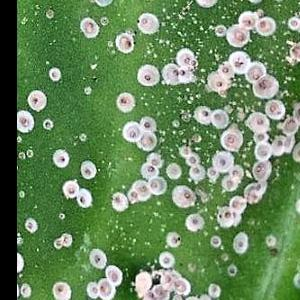Femea: (26, 89, 46, 109), (206, 72, 225, 91), (114, 94, 134, 112), (136, 69, 156, 87), (228, 54, 247, 72), (163, 61, 177, 84), (255, 77, 271, 96), (174, 49, 193, 64), (248, 61, 261, 80), (124, 124, 139, 140), (267, 101, 282, 117), (217, 63, 232, 78), (213, 152, 227, 168), (212, 107, 225, 124), (253, 162, 268, 176), (272, 134, 282, 154), (223, 135, 237, 148), (197, 108, 209, 122), (250, 117, 265, 128), (176, 69, 192, 79), (256, 145, 268, 158), (143, 120, 155, 133), (222, 179, 236, 190), (229, 166, 240, 178), (253, 131, 266, 141), (143, 165, 155, 175), (187, 155, 199, 165)
Linfa: (240, 102, 256, 114), (233, 97, 243, 113), (238, 81, 248, 94), (184, 95, 194, 106)
